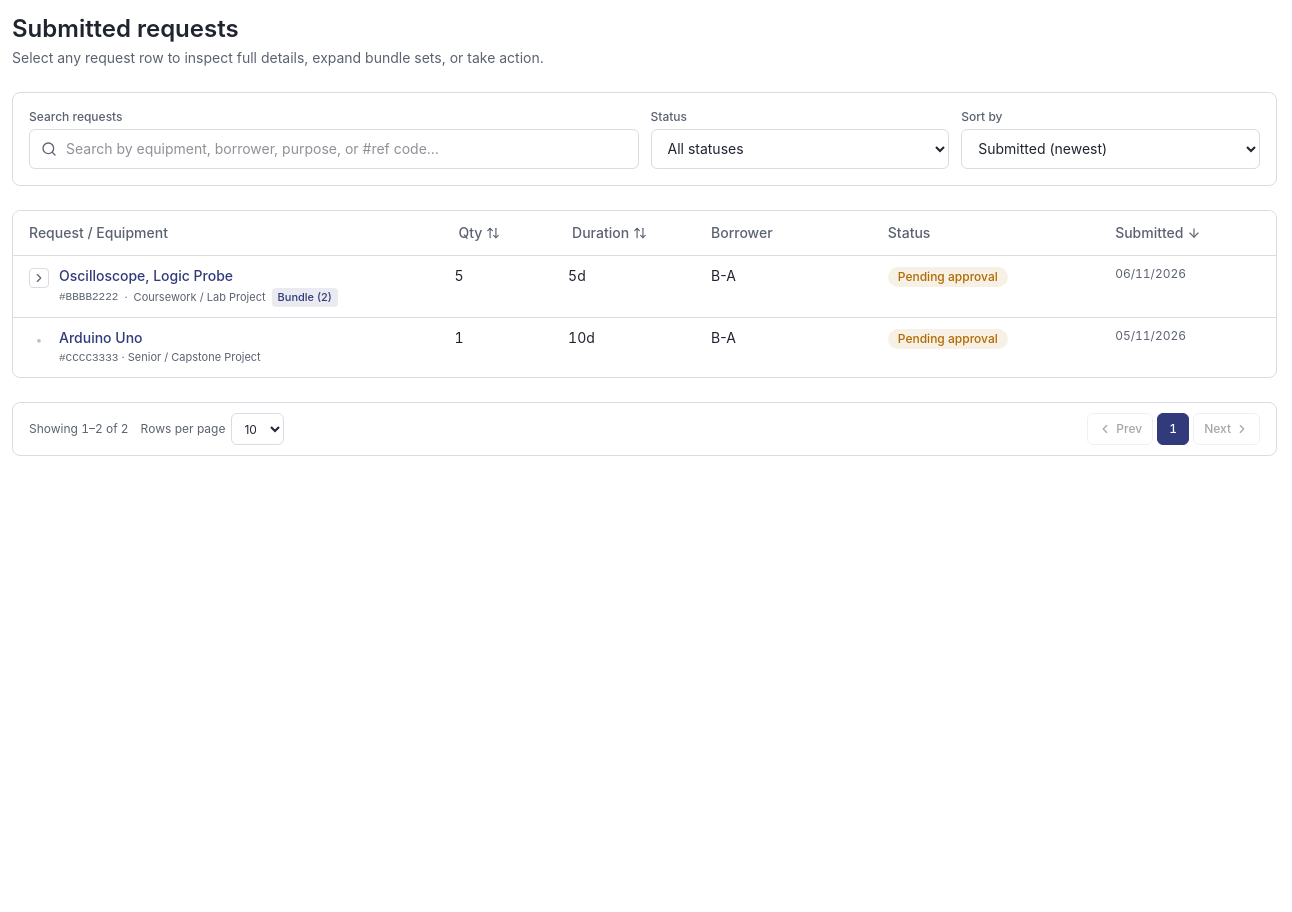
Test case: F-04 / F-11 request creation & management UI › supports short reference search, sortable columns, collapsible bundles, and Custodian quick bundle approve
Expected: the text "Bundle (2)" is shown, [272, 288, 338, 307]
Sort by Qty toggling ascending/descending
Click the button "Qty" at (479, 233), box [458, 223, 500, 243]
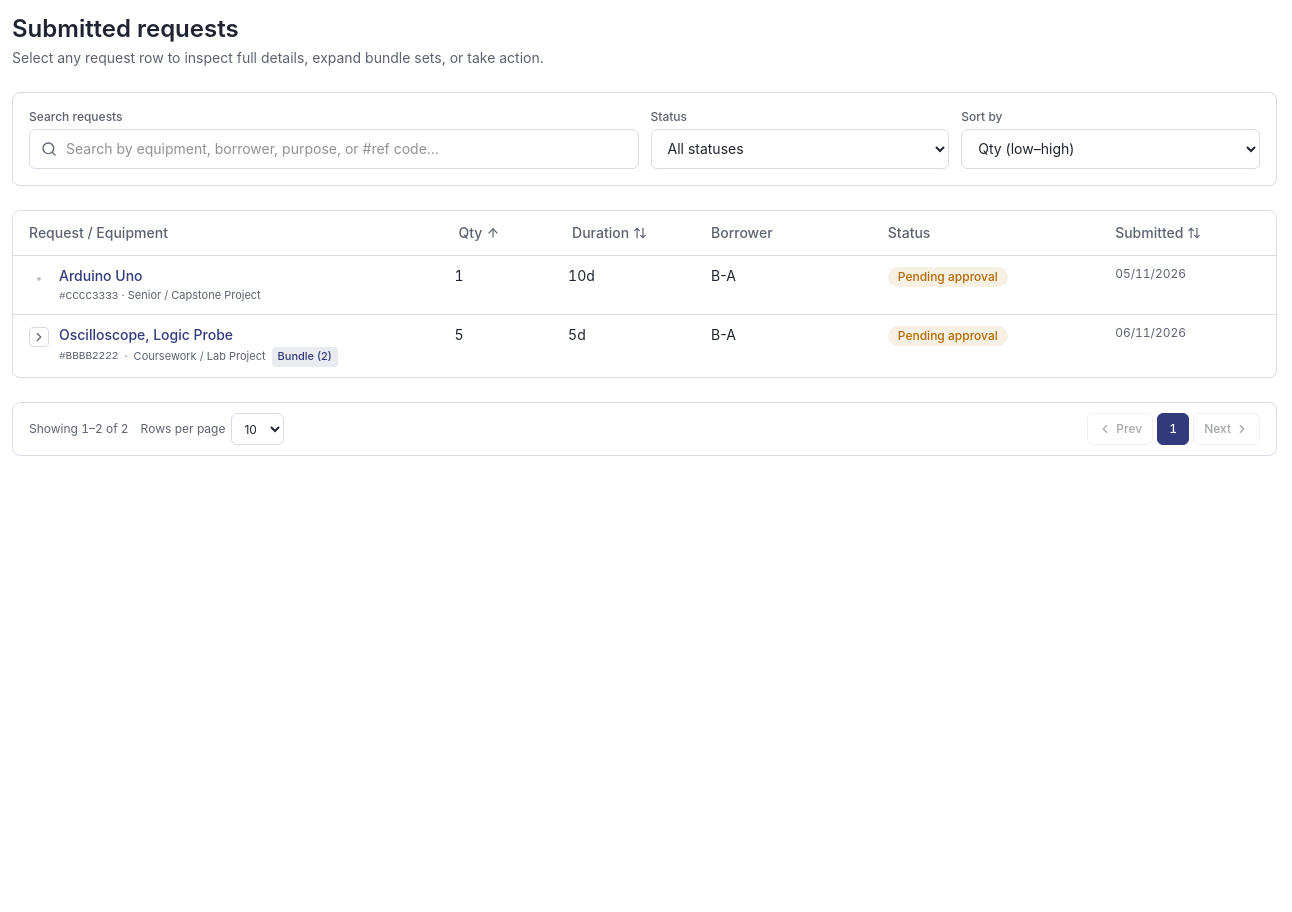
Result: the column heading "Qty" has attribute aria-sort="ascending" at [442, 211, 556, 255]
Click the button "Qty" at (479, 233), box [458, 223, 500, 243]
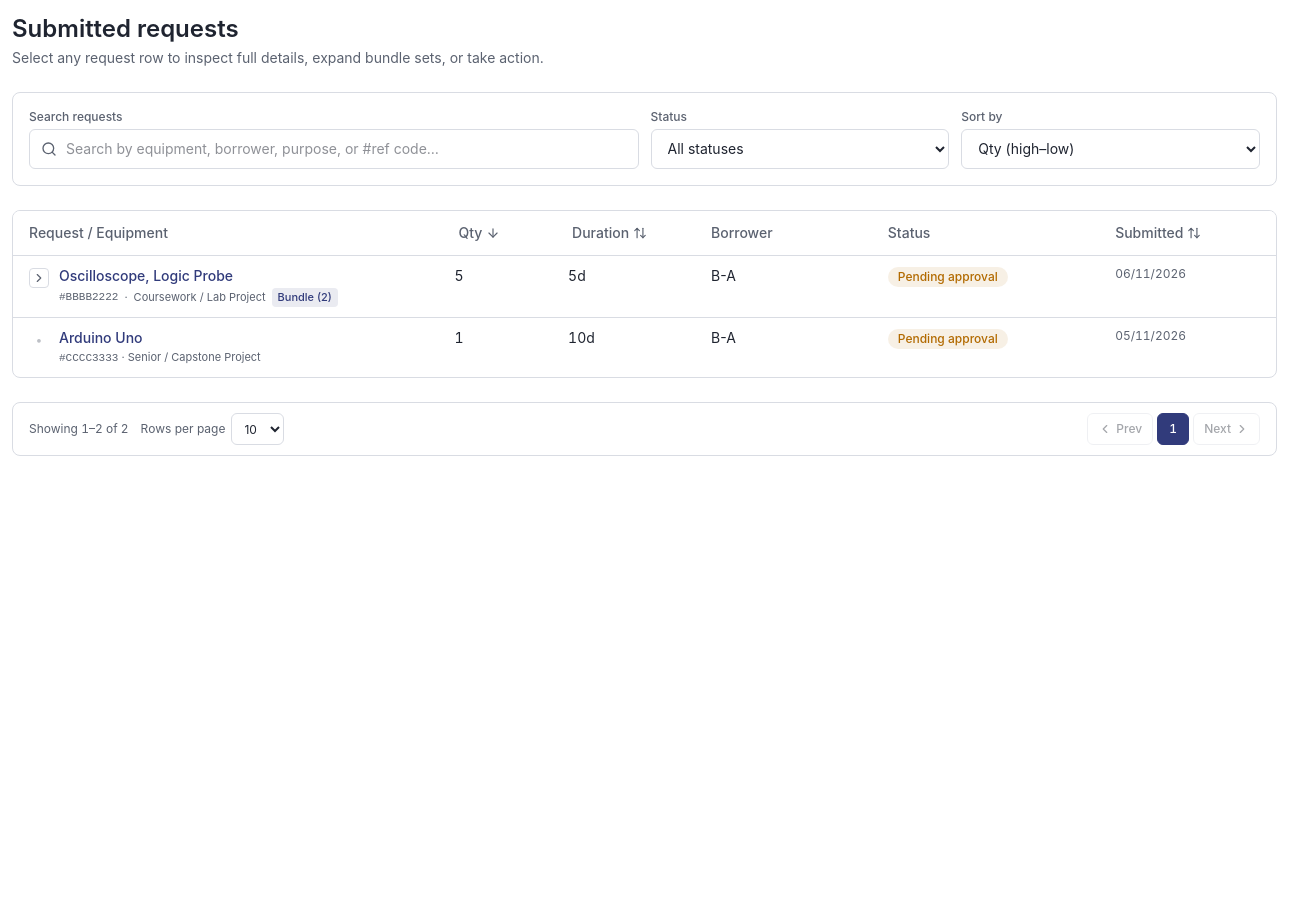
Result: the column heading "Qty" has attribute aria-sort="descending" at [442, 211, 556, 255]
Expand bundle sub-rows into clean full-width nested drawer and use Custodian Quick Bundle Approve
Click the button named "Toggle bundle #BBBB2222" at (39, 278), box [29, 268, 49, 288]
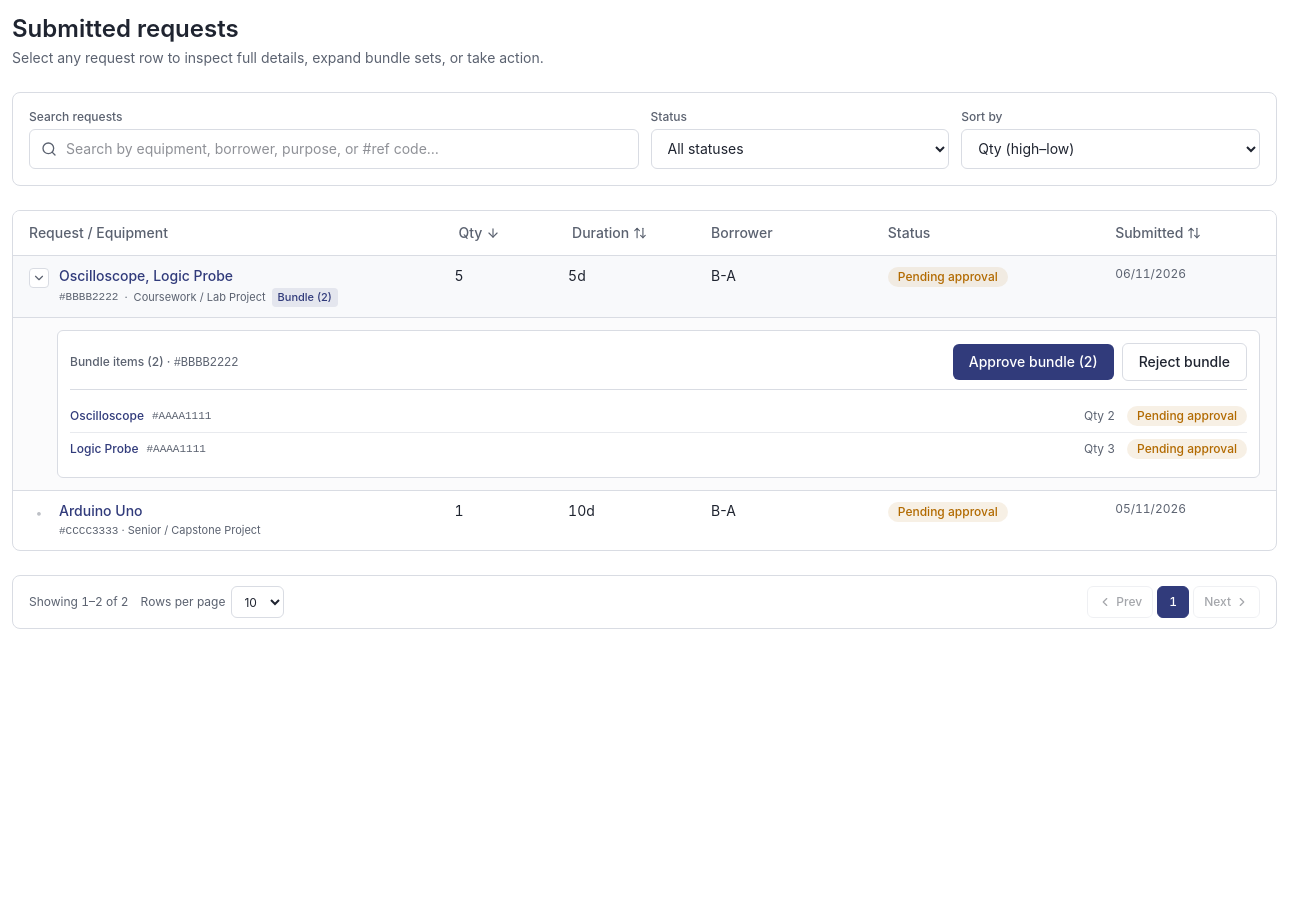
Result: the text "Bundle items (2) · #BBBB2222" is shown at [70, 354, 238, 371]
Click the button "Approve bundle (2)" at (1033, 362), box [953, 344, 1114, 380]
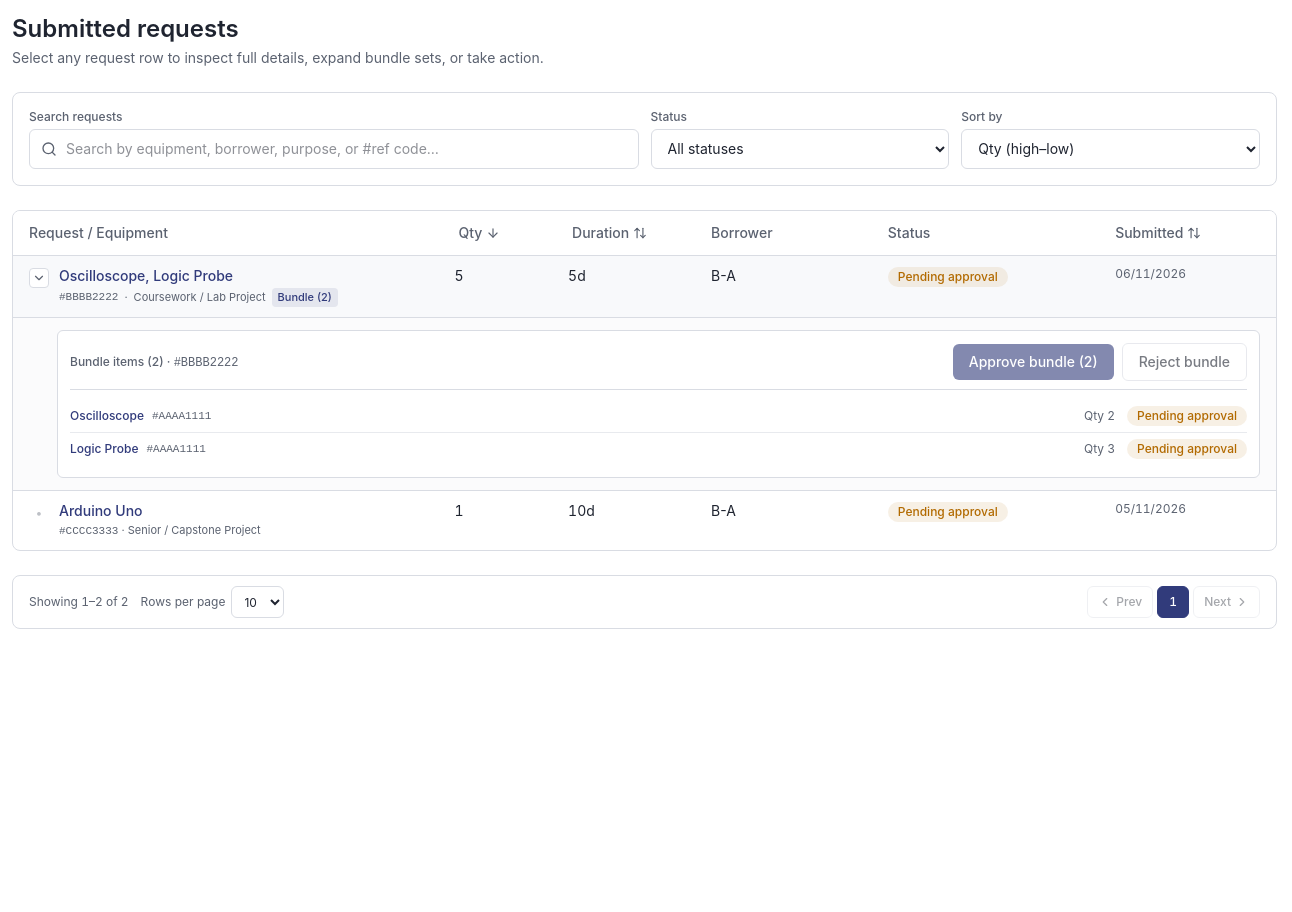
Search by short reference code (#CCCC3333)
Type "#CCCC3333" into the search field labelled "Search requests" at (334, 149), box [29, 129, 638, 169]
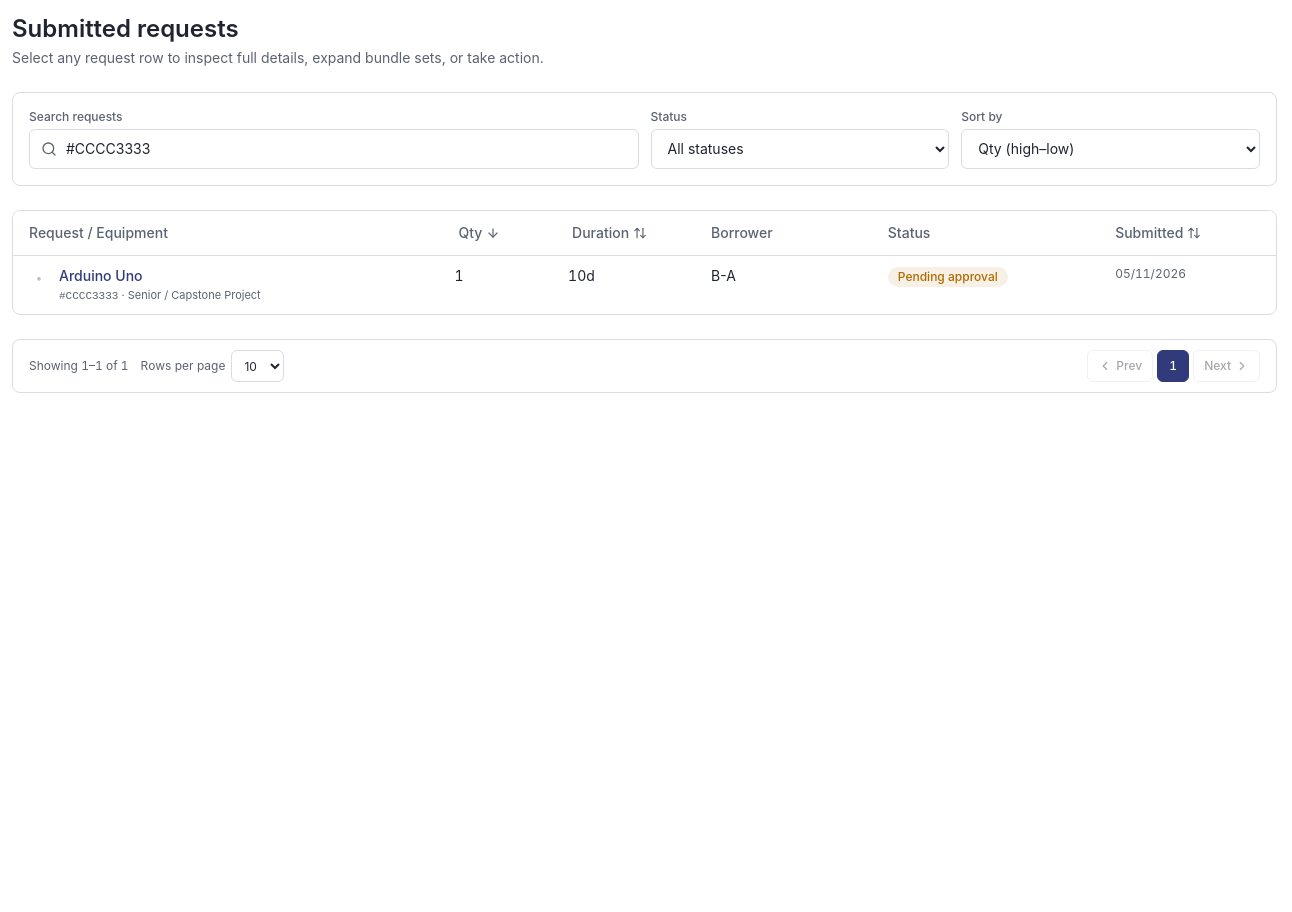
Result: the text "Bundle (2)" is gone
